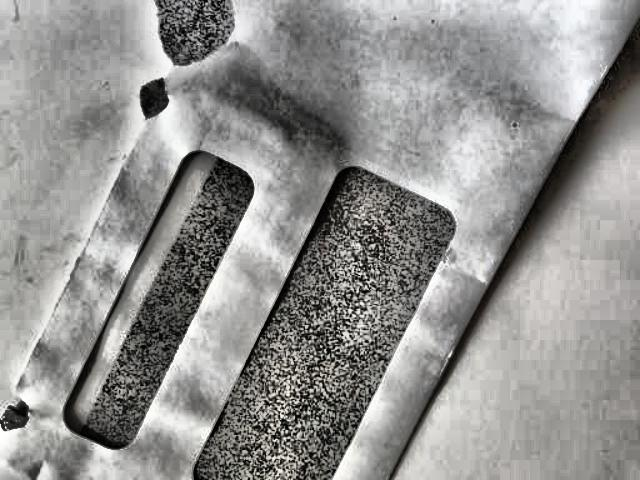Paper: (12, 0, 608, 480)
